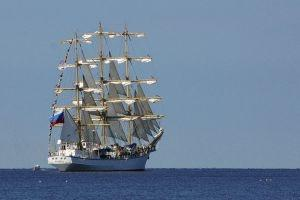fanchuan: (44, 27, 165, 172)
